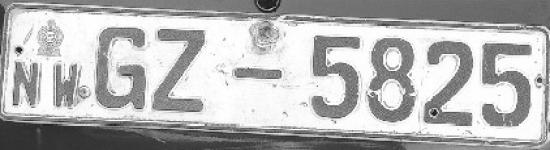-: (232, 65, 285, 84)
2: (424, 41, 475, 128)
5: (478, 39, 538, 131), (307, 33, 364, 122)
8: (364, 35, 422, 125)
G: (154, 26, 212, 116), (94, 23, 149, 114)
N: (10, 59, 40, 109)
W: (48, 60, 82, 112)
